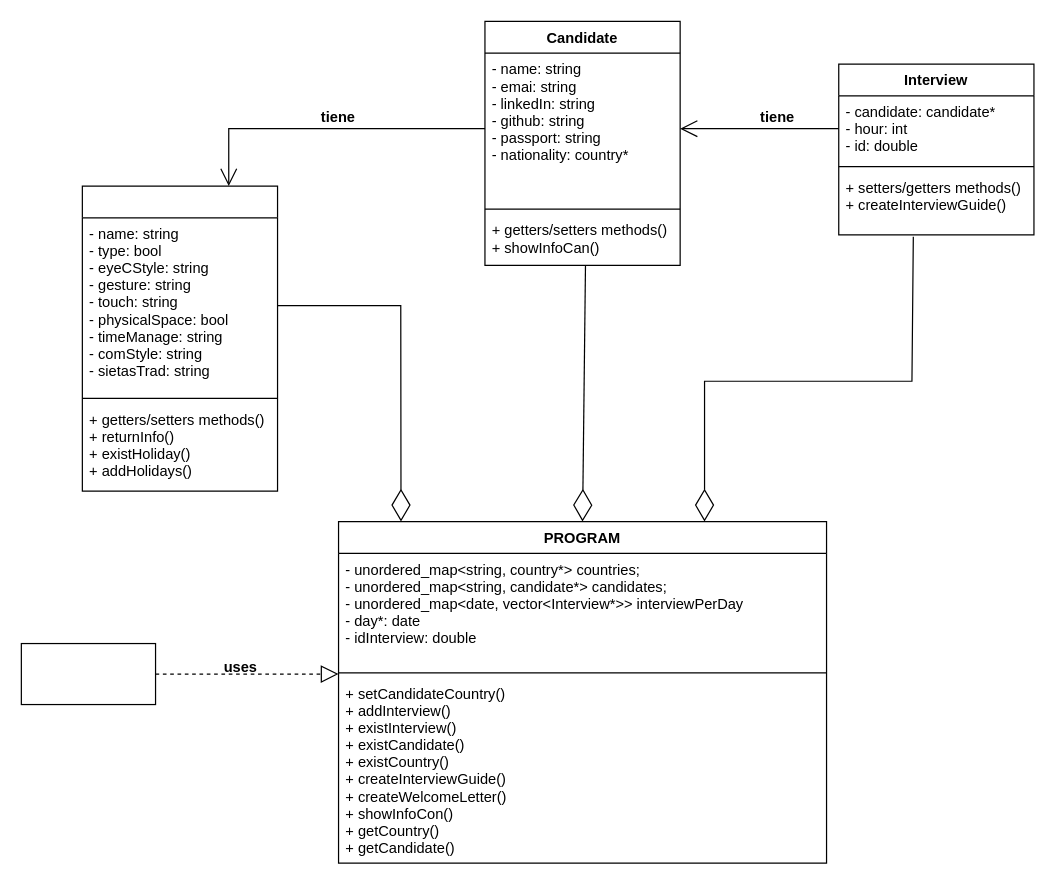
The diagram is 1055 pixels wide and 888 high, and some of its shapes have lost their labels. The box of each missing label's shape, as (x1, y1, x2, y2) in pixels:
Country: (81, 185, 278, 491)
Main: (20, 642, 156, 705)
